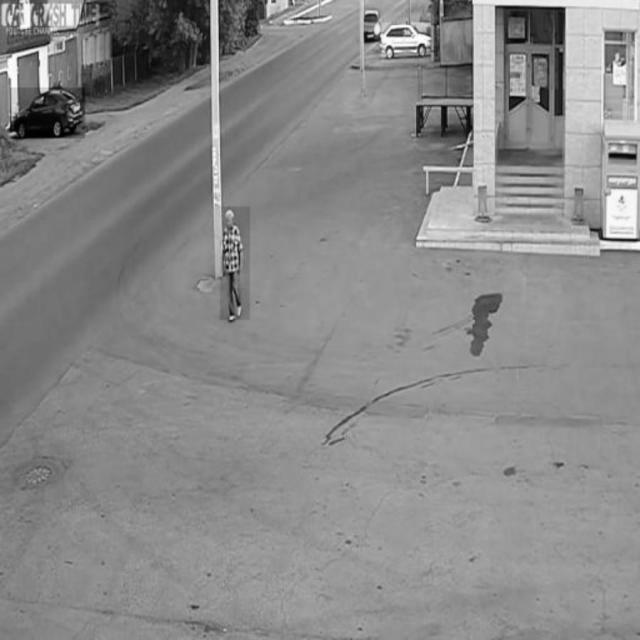person: (220, 207, 250, 320)
vehicle: (10, 88, 84, 139), (382, 24, 434, 64), (363, 9, 381, 43)
